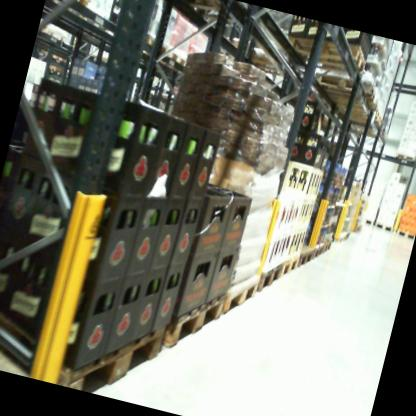pallet: (0, 264, 175, 405), (157, 278, 234, 369), (273, 21, 373, 77), (0, 322, 84, 388), (303, 68, 380, 107), (222, 263, 267, 323), (253, 250, 289, 302), (139, 27, 175, 63), (278, 243, 304, 286), (293, 239, 317, 272), (165, 47, 189, 72), (46, 0, 88, 14), (310, 233, 328, 264), (394, 148, 416, 168), (371, 219, 395, 235), (394, 227, 416, 242), (321, 233, 334, 258), (333, 229, 347, 250), (359, 212, 375, 230)
